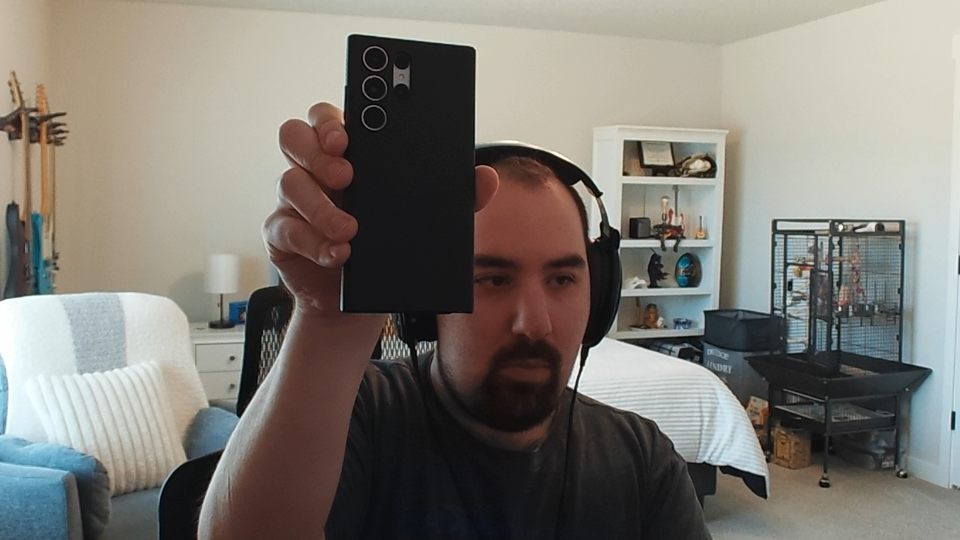MobilePhone: (338, 33, 476, 316)
